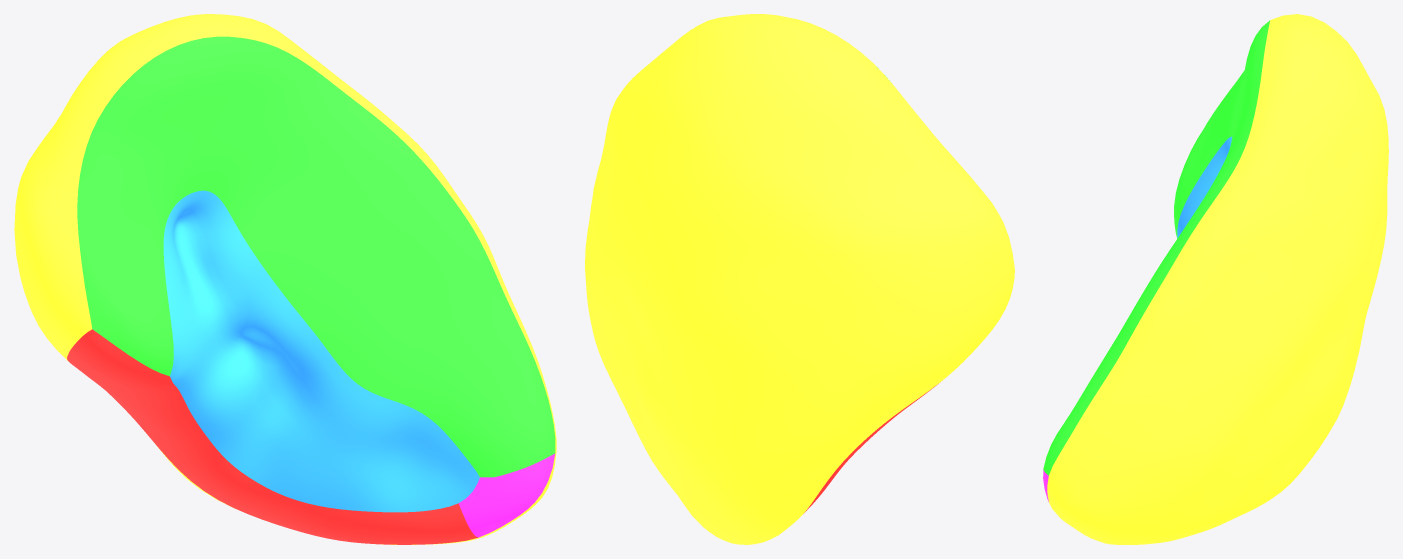
File: milz-female-mobil.glb
The picture shows the model from 3 angles, left to right: view 1: azimuth 30°, elevation 25°; view 2: azimuth 150°, elevation 25°; view 3: azimuth 270°, elevation 25°; orthographic projection. The views are drawn at different scales.
Parts seen in each view (by area): view 1: 0:2:VH_F_gastric_surface_of_spleen, 0:3:VH_F_hilum_of_spleen, 0:1:VH_F_diaphragmatic_surface_of_spleen, 0:4:VH_F_renal_surface_of_spleen, 0:0:VH_F_colic_surface_of_spleen; view 2: 0:1:VH_F_diaphragmatic_surface_of_spleen; view 3: 0:1:VH_F_diaphragmatic_surface_of_spleen, 0:2:VH_F_gastric_surface_of_spleen, 0:3:VH_F_hilum_of_spleen.
Part boxes in pixels (x1,y1,x2,y2): 0:2:VH_F_gastric_surface_of_spleen: [77, 36, 555, 477]; 0:3:VH_F_hilum_of_spleen: [163, 190, 479, 512]; 0:1:VH_F_diaphragmatic_surface_of_spleen: [14, 14, 556, 544]; 0:4:VH_F_renal_surface_of_spleen: [67, 329, 477, 544]; 0:0:VH_F_colic_surface_of_spleen: [458, 453, 555, 537]; 0:1:VH_F_diaphragmatic_surface_of_spleen: [585, 14, 1014, 544]; 0:1:VH_F_diaphragmatic_surface_of_spleen: [1047, 14, 1388, 544]; 0:2:VH_F_gastric_surface_of_spleen: [1043, 20, 1269, 475]; 0:3:VH_F_hilum_of_spleen: [1177, 136, 1232, 237].
Size of the model in its own units: 0.0896 by 0.1023 by 0.0709.
